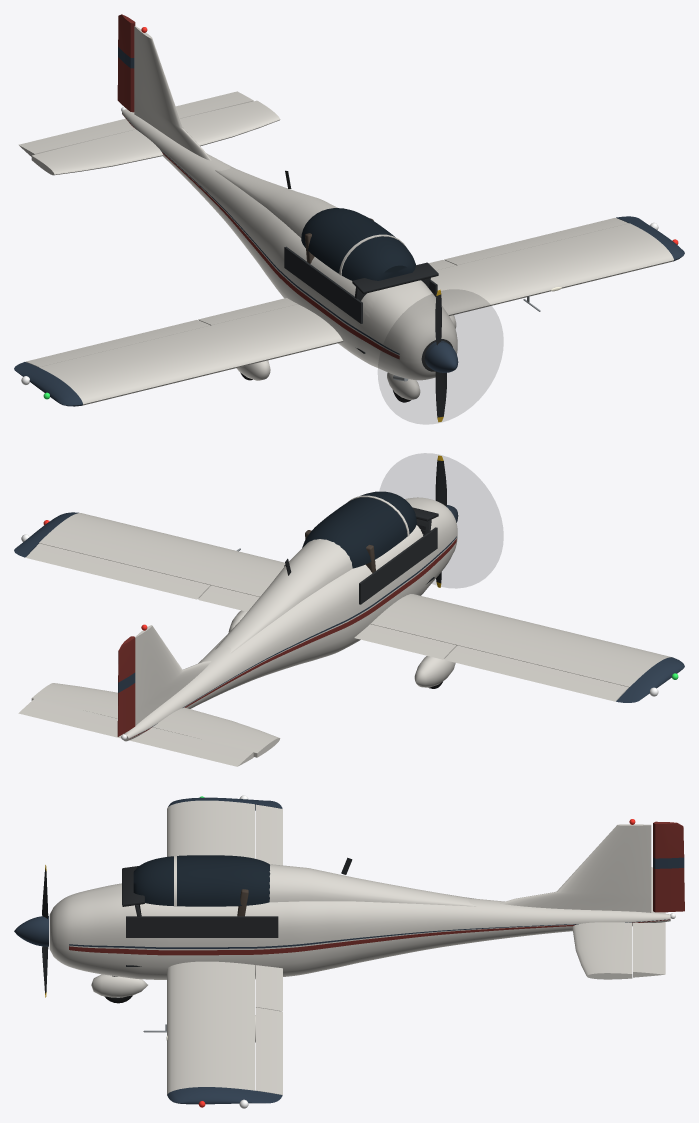
File: Sport.fbx
The picture shows the model from 3 angles, top to bottom: view 1: azimuth 30°, elevation 25°; view 2: azimuth 150°, elevation 25°; view 3: azimuth 270°, elevation 25°; orthographic projection.
Visible parts, largest first — view 1: Wing, Fuselage, Propeller disc, Tailplane, Canopy, Fin, Turtle deck, Elevator surface, Door sill right, Aileron left surface, Aileron right surface, Rudder surface (+6 smaller); view 2: Wing, Fuselage, Propeller disc, Turtle deck, Canopy, Tailplane, Elevator surface, Fin, Aileron left surface, Aileron right surface, Flaps, Door sill right (+5 smaller); view 3: Fuselage, Wing, Fin, Canopy, Turtle deck, Door sill left, Tailplane, Rudder surface, Aileron left surface, Elevator surface, Wingtip left, Aileron right surface (+5 smaller).
Part boxes in pixels (x1,y1,x2,y2): Wing: [39, 223, 673, 405]; Fuselage: [122, 109, 457, 380]; Propeller disc: [378, 290, 502, 423]; Tailplane: [31, 100, 280, 175]; Canopy: [301, 208, 415, 280]; Fin: [134, 26, 211, 160]; Turtle deck: [215, 166, 337, 237]; Elevator surface: [18, 91, 253, 156]; Door sill right: [284, 246, 362, 323]; Aileron left surface: [444, 218, 628, 265]; Aileron right surface: [26, 320, 210, 367]; Rudder surface: [117, 14, 135, 112]; Wing: [39, 513, 671, 687]; Fuselage: [124, 497, 457, 741]; Propeller disc: [380, 453, 502, 587]; Turtle deck: [215, 539, 352, 652]; Canopy: [302, 491, 416, 568]; Tailplane: [31, 683, 280, 757]; Elevator surface: [18, 698, 253, 766]; Fin: [135, 625, 211, 725]; Aileron left surface: [26, 543, 210, 599]; Aileron right surface: [444, 645, 628, 701]; Flaps: [198, 585, 456, 659]; Door sill right: [359, 527, 437, 604]; Fuselage: [49, 883, 670, 979]; Wing: [167, 800, 254, 1094]; Fin: [500, 824, 651, 912]; Canopy: [133, 855, 270, 906]; Turtle deck: [269, 864, 476, 906]; Door sill left: [126, 916, 278, 937]; Tailplane: [572, 922, 632, 979]; Rudder surface: [653, 821, 684, 912]; Aileron left surface: [255, 1007, 282, 1094]; Elevator surface: [633, 867, 665, 977]; Wingtip left: [167, 1087, 282, 1104]; Aileron right surface: [255, 804, 282, 865].
Size of the model in its own units: 9.58 by 2.66 by 8.81.
